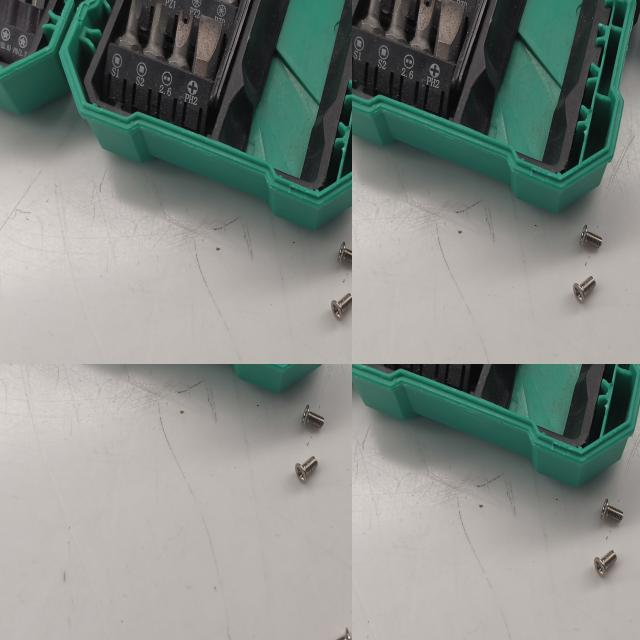Screw: (394, 138, 441, 195), (404, 256, 455, 302), (474, 2, 529, 37), (353, 176, 378, 244), (400, 68, 453, 99), (352, 37, 377, 87), (596, 497, 626, 527), (592, 548, 622, 578)
